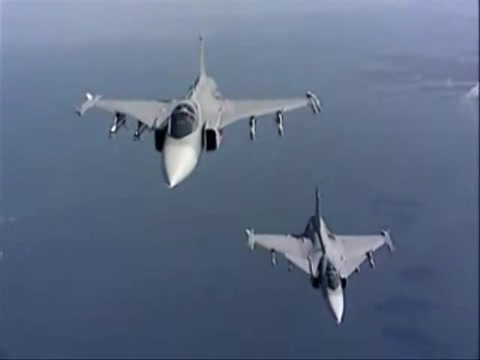aeroplane: (71, 29, 325, 193)
